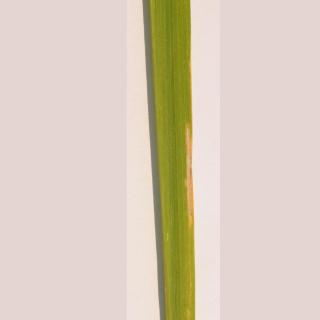Hawar-Daun: (163, 45, 210, 314)
